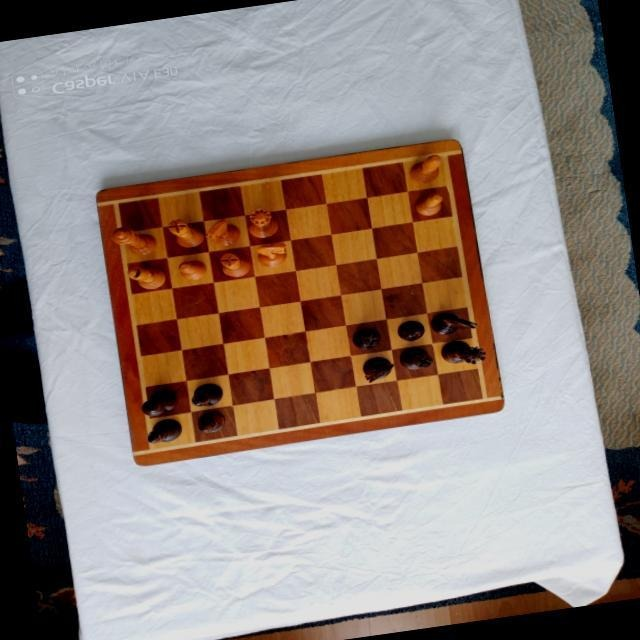black-bishop: (144, 418, 184, 446), (188, 381, 224, 409)
black-king: (139, 388, 179, 419)
black-knight: (429, 308, 478, 337), (360, 354, 396, 383)
black-pawn: (195, 410, 227, 434), (394, 319, 425, 343)
black-queen: (439, 335, 488, 368)
black-rook: (398, 344, 434, 372), (349, 327, 382, 353)
white-bishop: (406, 153, 446, 186), (125, 264, 166, 292)
white-king: (109, 221, 159, 259)
white-knight: (202, 215, 242, 248), (254, 241, 290, 269)
white-pawn: (412, 192, 444, 218), (176, 258, 208, 282)
white-queen: (245, 207, 280, 241)
white-rook: (166, 216, 206, 252), (217, 251, 250, 281)
